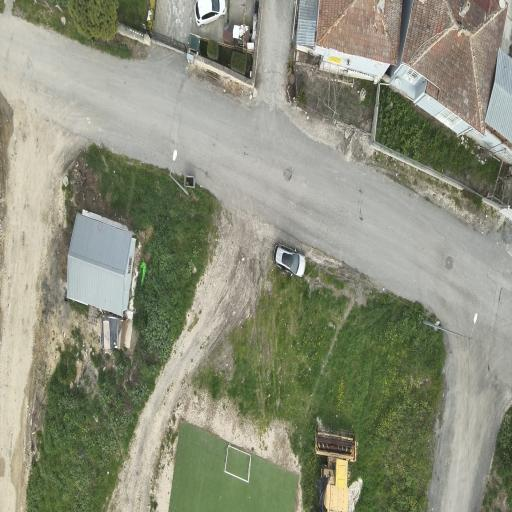car: (272, 244, 304, 276), (194, 0, 225, 27)
harvester: (315, 428, 355, 511)
